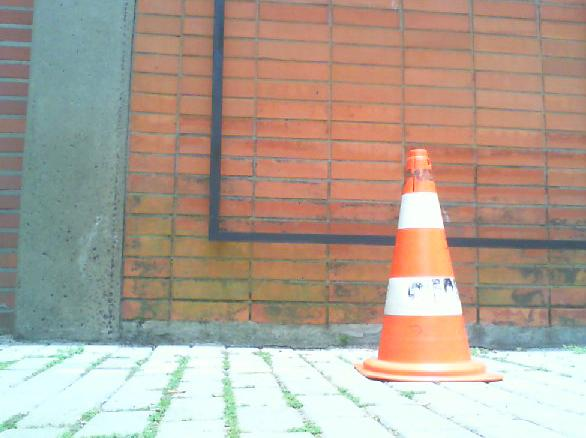0 cone: (354, 148, 502, 383)
